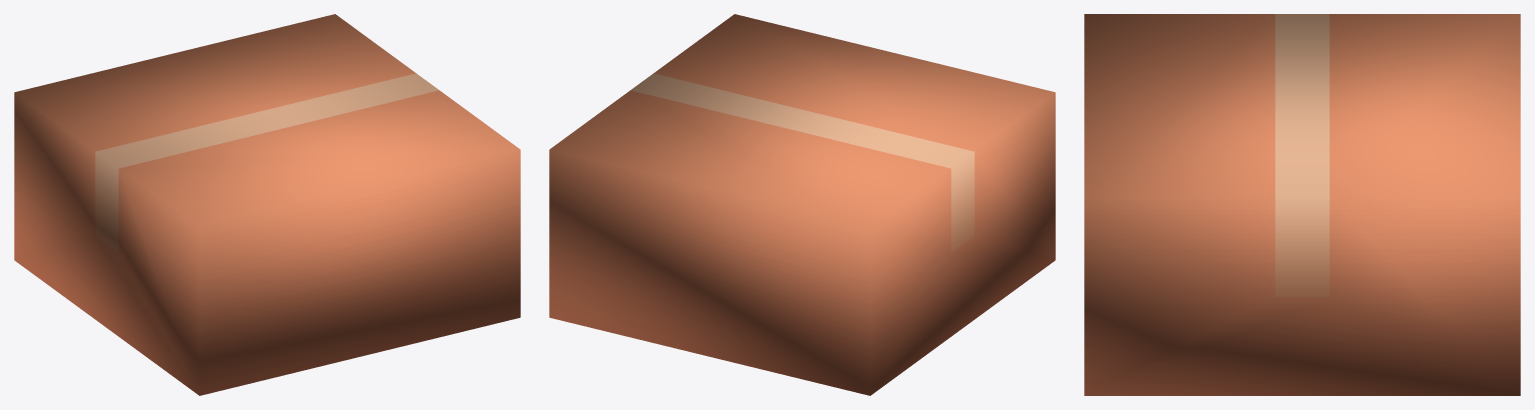
File: box_large.glb
3 views of the same model, side by side, from view 1: azimuth 30°, elevation 25°; view 2: azimuth 150°, elevation 25°; view 3: azimuth 270°, elevation 25° (orthographic). The views are drawn at different scales.
Visible parts, largest first — view 1: box-large; view 2: box-large; view 3: box-large.
Part boxes in pixels (left/top/right/bottom): box-large: left=14, top=14, right=520, bottom=395; box-large: left=549, top=14, right=1055, bottom=395; box-large: left=1084, top=14, right=1520, bottom=395.
Bounding box in the file's own units: 0.5276 × 0.2638 × 0.5276.
Materials: 1 (1 with a texture image).
